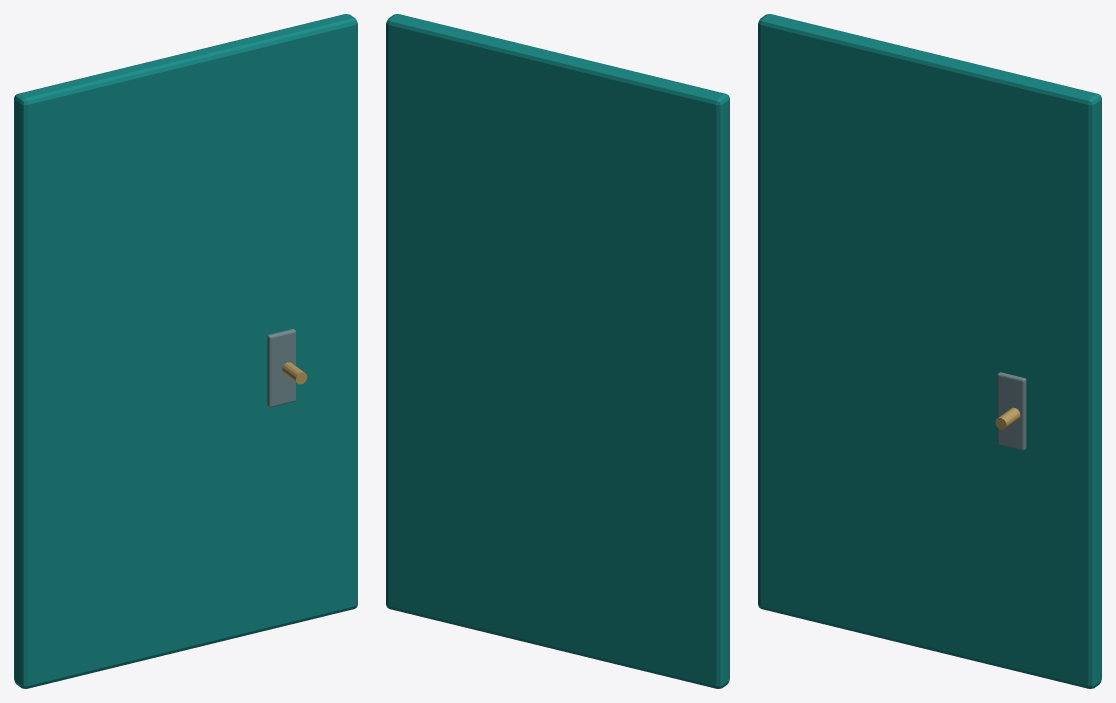
The model's file is Service_Door_HingeOrigin.fbx.
3 views of the same model, side by side, from view 1: azimuth 30°, elevation 25°; view 2: azimuth 150°, elevation 25°; view 3: azimuth 330°, elevation 25° (orthographic).
Parts seen in each view (by area): view 1: Service_Door_HingeOrigin_Mesh; view 2: Service_Door_HingeOrigin_Mesh; view 3: Service_Door_HingeOrigin_Mesh.
Part boxes in pixels (x1,y1,x2,y2): Service_Door_HingeOrigin_Mesh: (14,14,357,688); Service_Door_HingeOrigin_Mesh: (386,14,729,688); Service_Door_HingeOrigin_Mesh: (758,14,1101,688).
Bounding box in the file's own units: 1.48 × 2.48 × 0.2125.
1 material, 1 textured.
